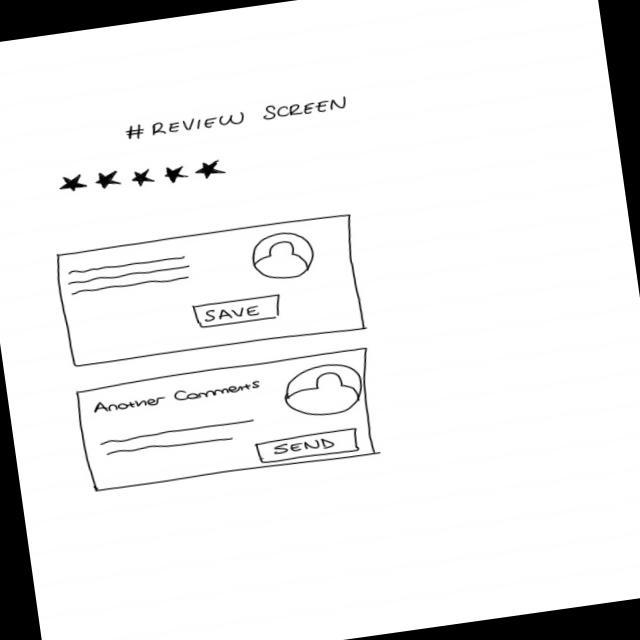button: (255, 426, 364, 467), (191, 292, 289, 331)
container: (53, 211, 371, 374), (74, 346, 385, 498)
image: (282, 360, 368, 423), (250, 229, 319, 285)
label: (125, 94, 353, 146), (90, 377, 265, 416)
textbox: (99, 417, 261, 462), (64, 255, 194, 300)
